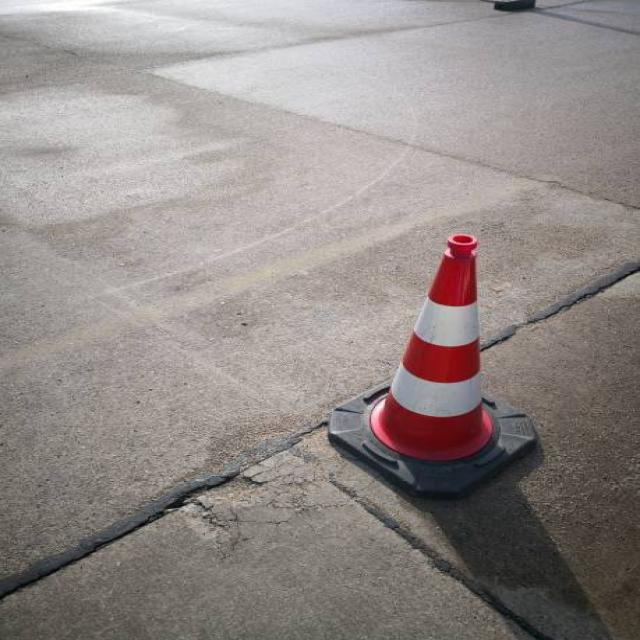Traffic Cone: (300, 209, 567, 509)
